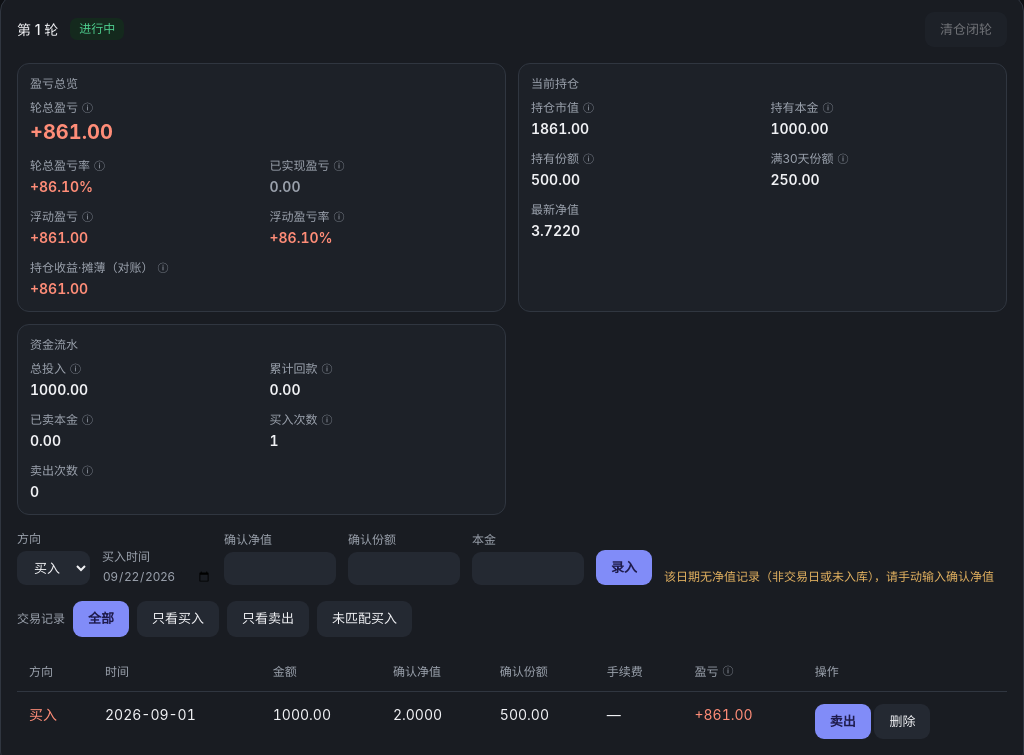
Test: Rounds › 删除失败时展示服务端错误（如被配对买入不可删）
(page scrolled)
Expected: the text "第 1 轮" is shown, [17,19,58,40]
Click the button "删除" at (902, 721), box [874,704,930,739]
(page scrolled)
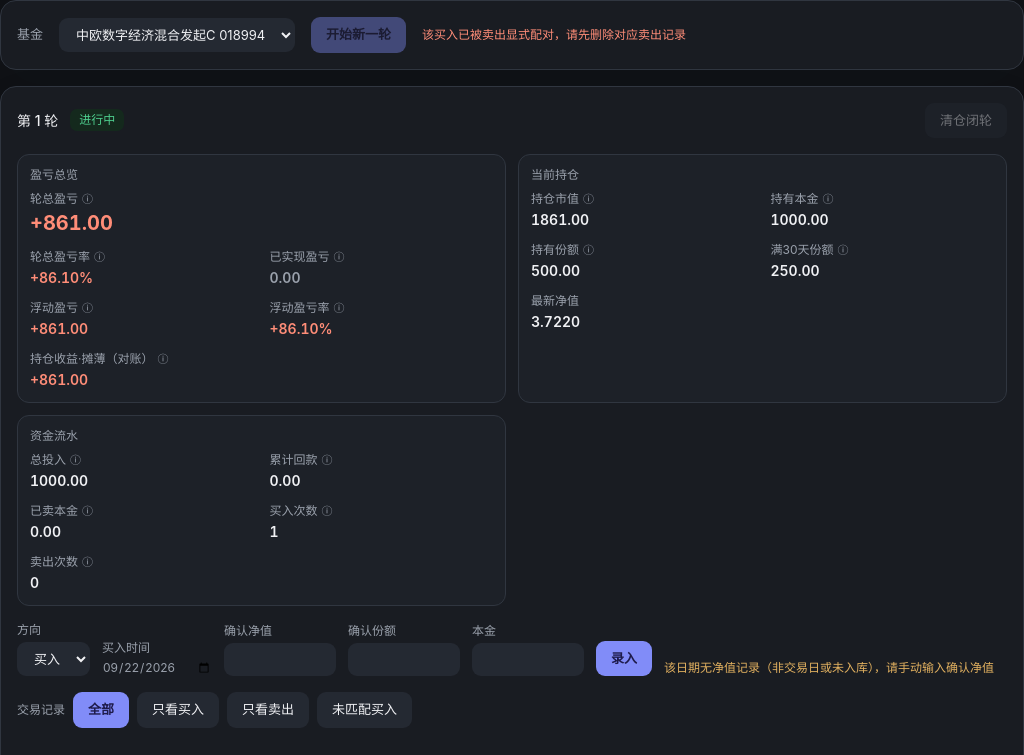
Expected: the text "该买入已被卖出显式配对，请先删除对应卖出记录" is shown, [422,27,686,43]
